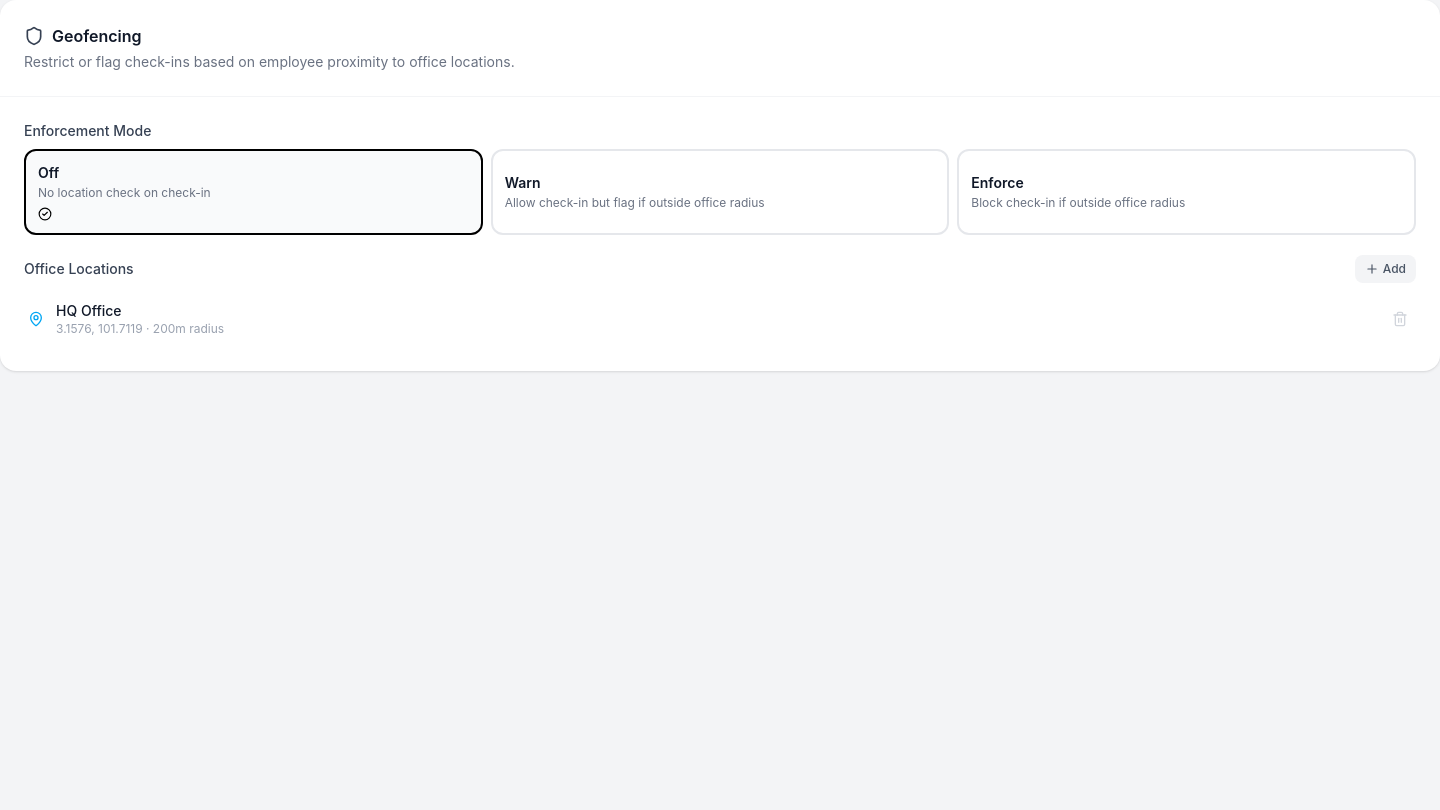
GeofenceCard › keeps Add disabled until name and both coordinates are supplied
Expected: the text "HQ Office" is shown, [56,302,122,319]
Step 1. Click the button "Add" → (1385, 269), box [1355,255,1416,283]
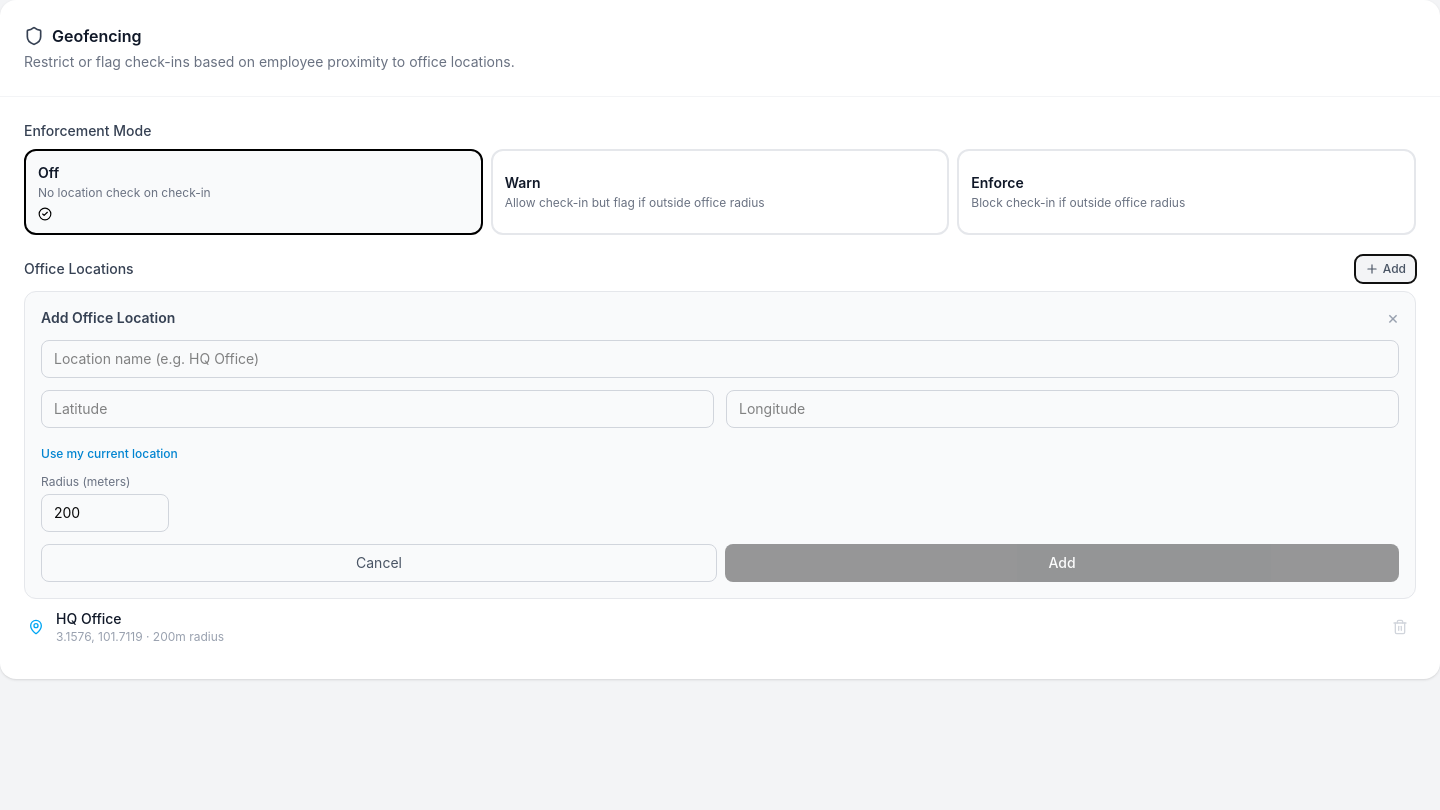
Expected: the 2nd button "Add" is disabled, [725,544,1399,582]
Step 2. Type "Branch" into the field with placeholder "Location name (e.g. HQ Office)" → (720, 359), box [41,340,1399,378]
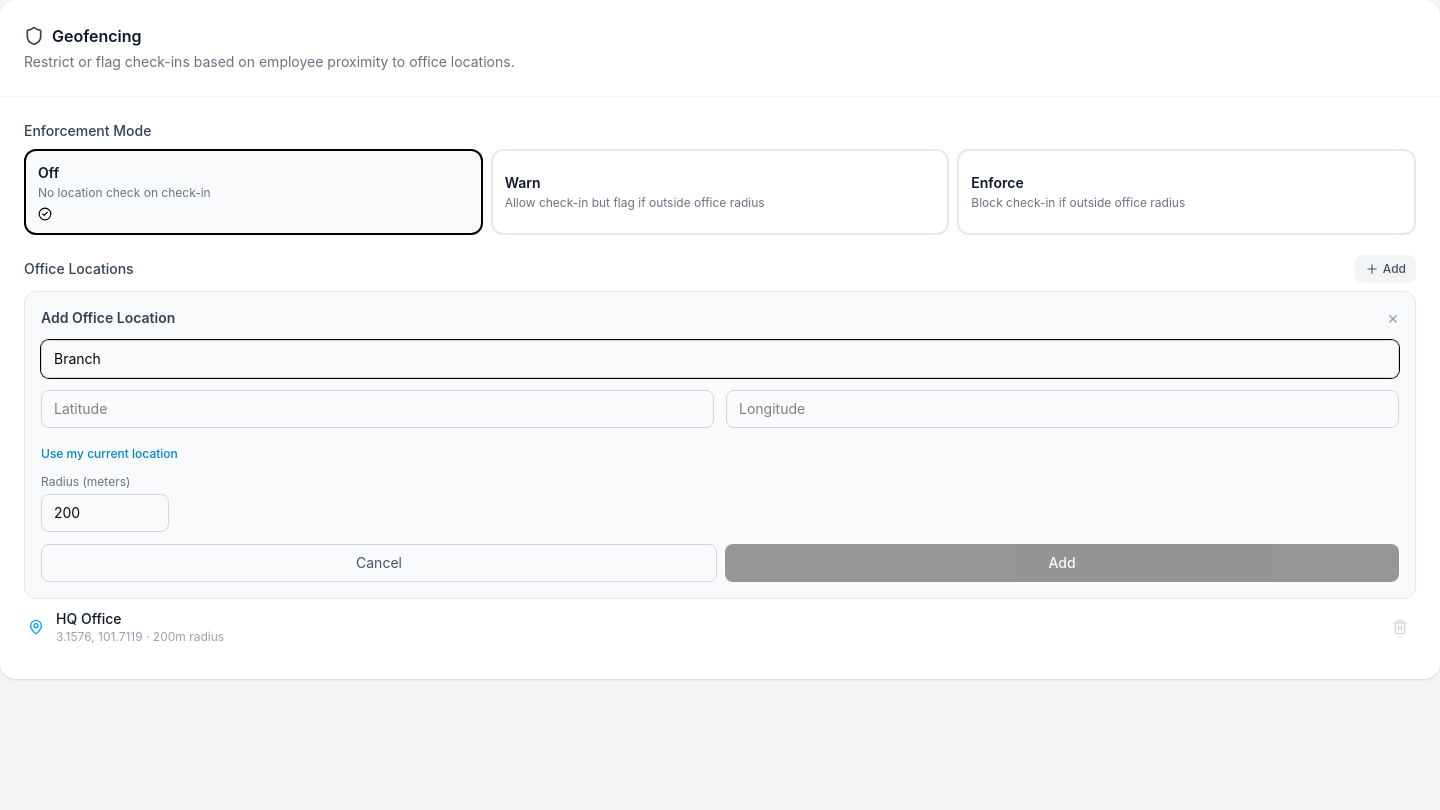
Step 3. Type "3.20" into the field with placeholder "Latitude" → (378, 409), box [41,390,714,428]
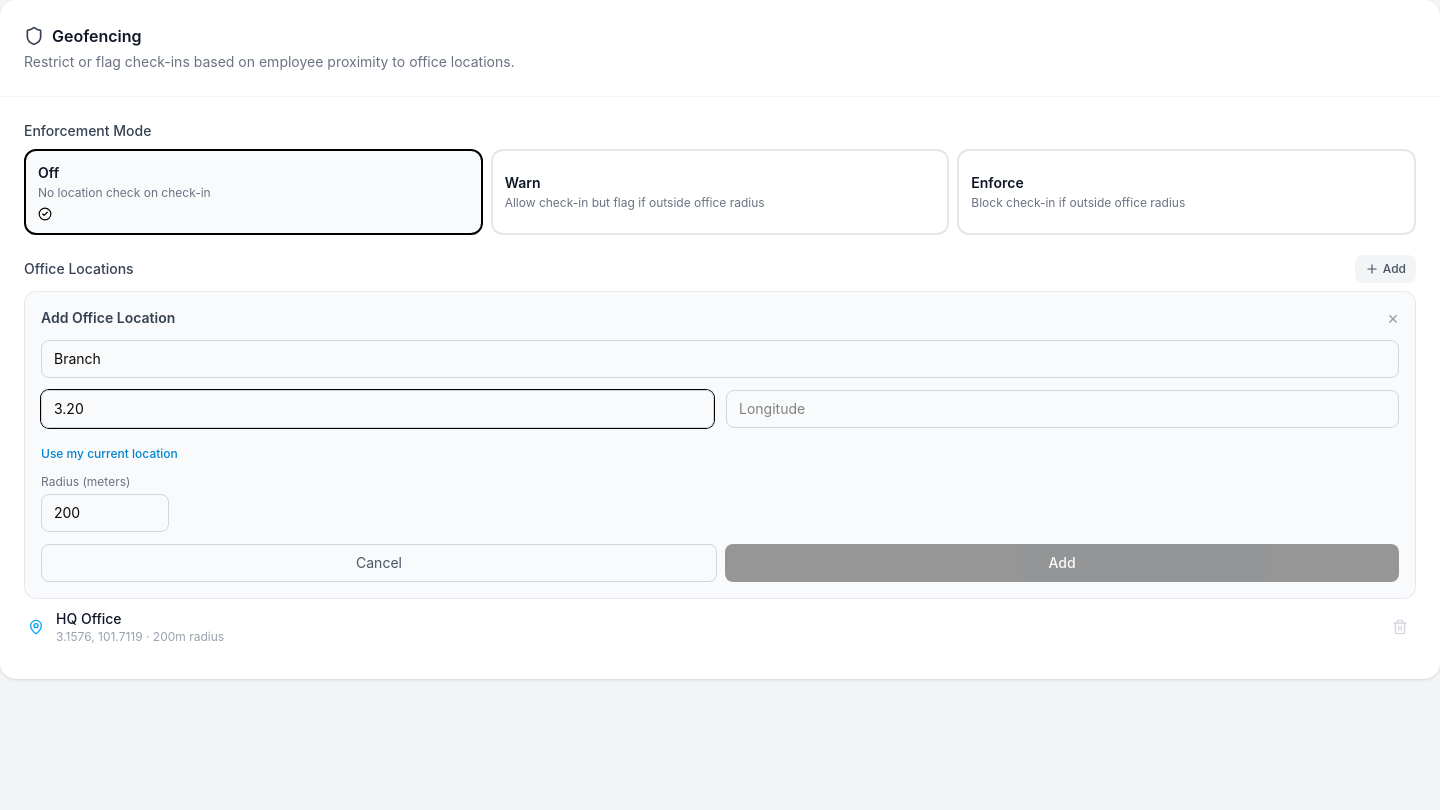
Expected: the 2nd button "Add" is disabled, [725,544,1399,582]
Step 4. Type "101.60" into the field with placeholder "Longitude" → (1062, 409), box [726,390,1399,428]
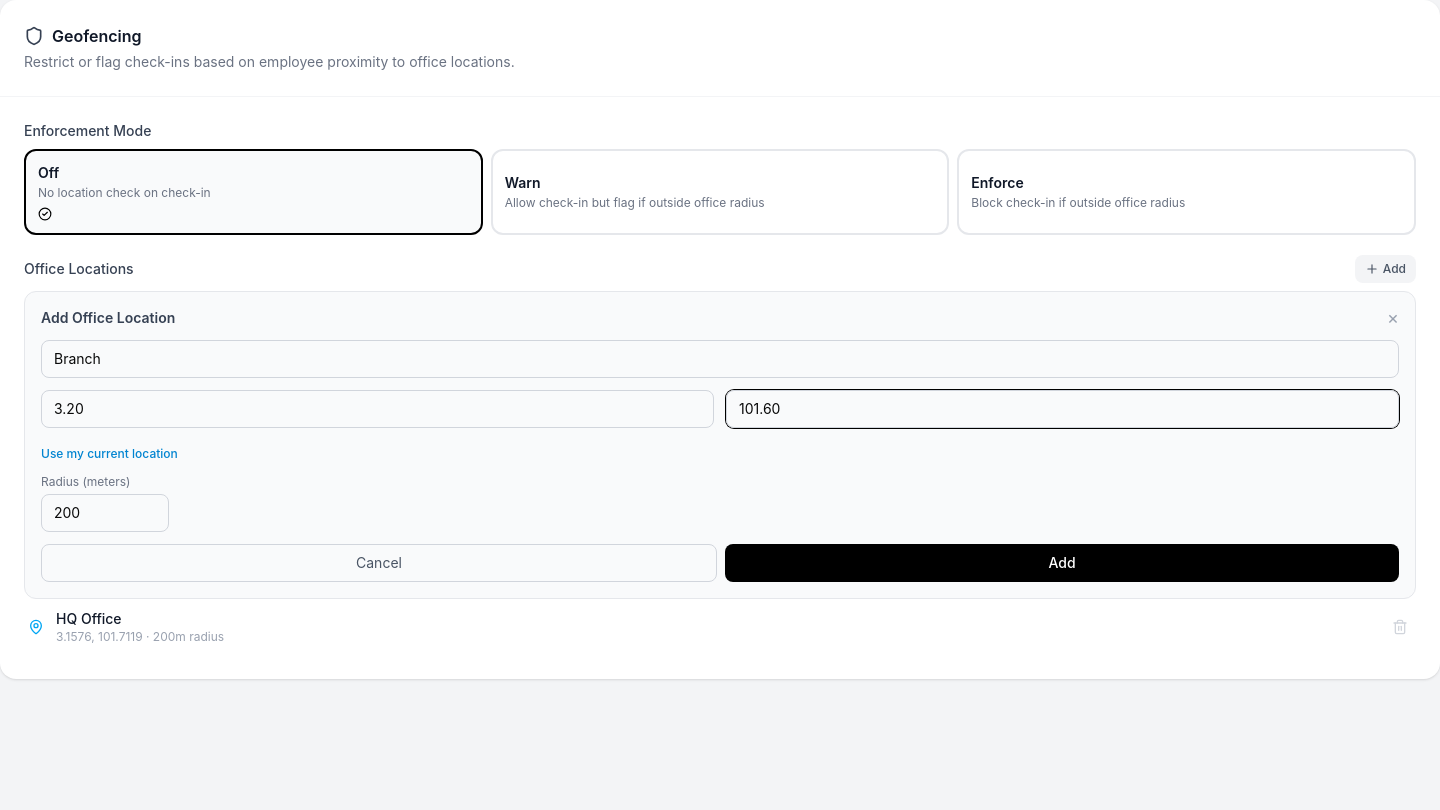
Expected: the 2nd button "Add" is enabled, [725,544,1399,582]
